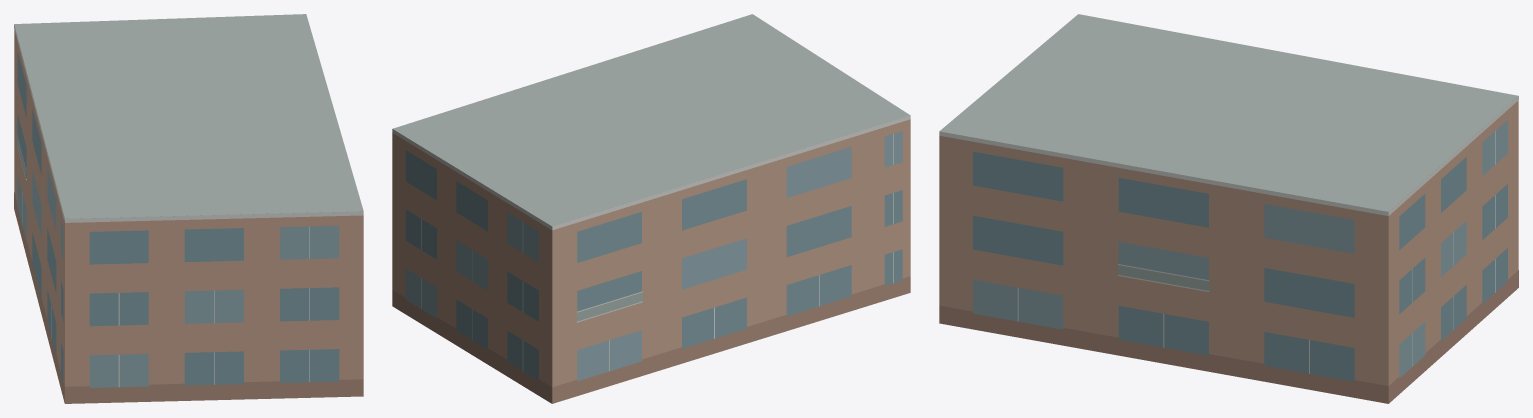
File: survey-upis-33013728.glb
3 views of the same model, side by side, from view 1: azimuth 30°, elevation 25°; view 2: azimuth 150°, elevation 25°; view 3: azimuth 270°, elevation 25° (orthographic). The views are drawn at different scales.
Parts seen in each view (by area): view 1: survey-upis-33013728.tmp; view 2: survey-upis-33013728.tmp; view 3: survey-upis-33013728.tmp.
Boxes of the visible parts, bbox=[...] form: survey-upis-33013728.tmp: bbox=[14, 14, 363, 403]; survey-upis-33013728.tmp: bbox=[392, 14, 910, 403]; survey-upis-33013728.tmp: bbox=[939, 14, 1518, 403].
Bounding box in the file's own units: 24.33 × 11 × 30.1.
